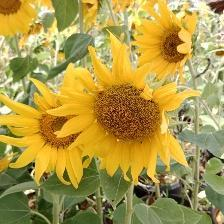sunflower: (48, 30, 205, 189)
